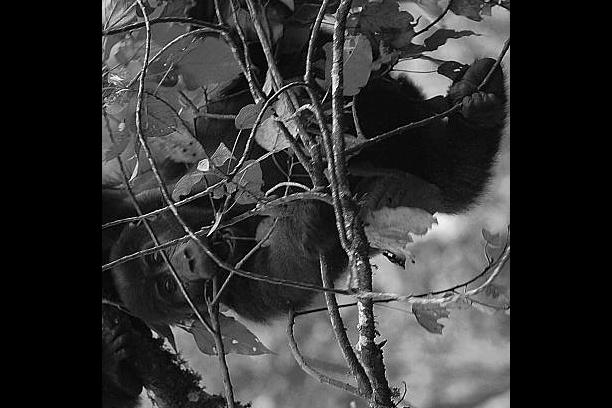goriile_montagne: (107, 0, 493, 341)
